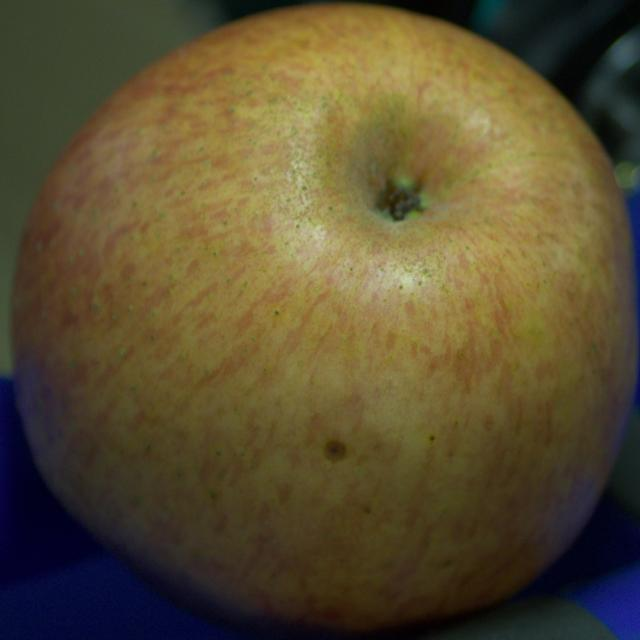apple: (12, 4, 638, 638)
pest: (325, 441, 346, 461)
